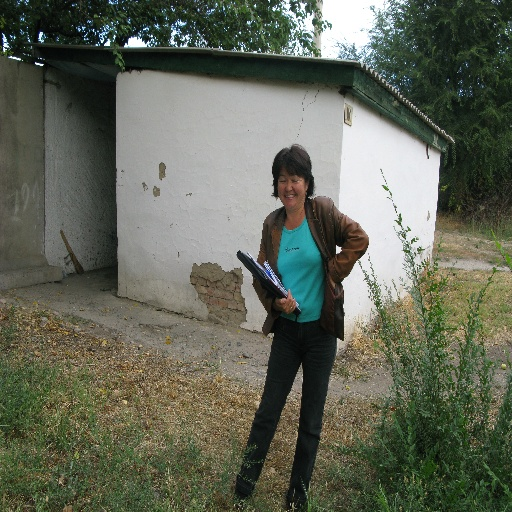hand: (273, 291, 297, 322), (327, 272, 337, 287)
